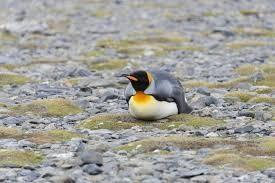king: (115, 60, 191, 131)
